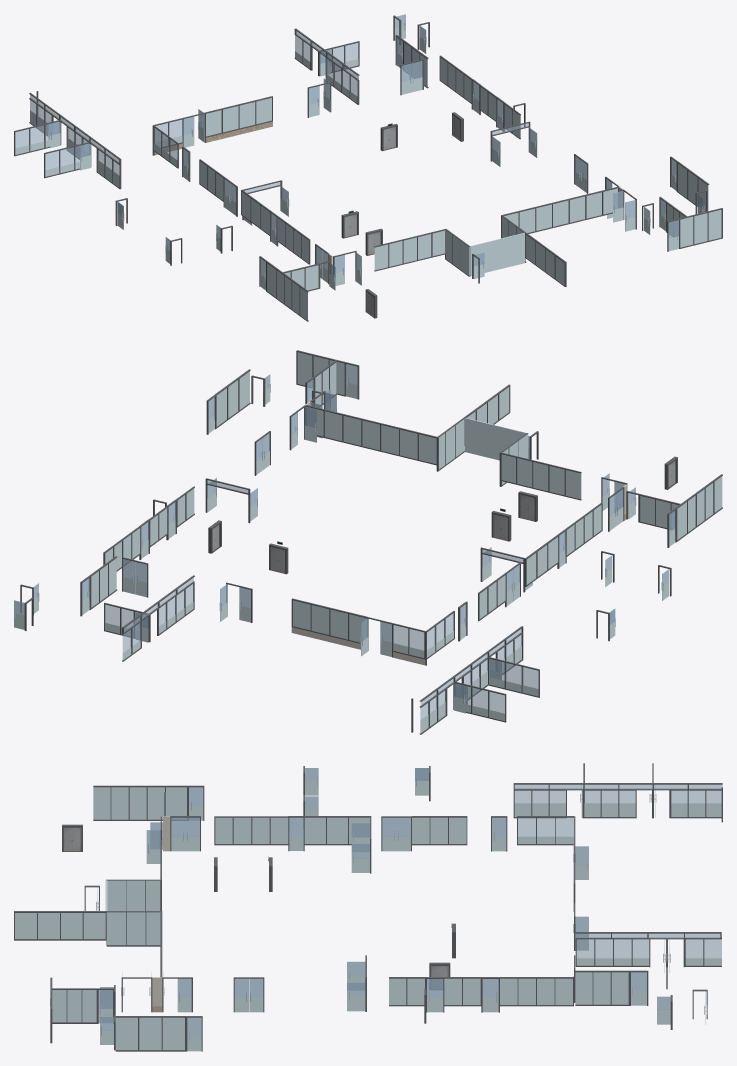
Rendered from glass.glb.
3 views of the same model, one above another, from view 1: azimuth 30°, elevation 25°; view 2: azimuth 150°, elevation 25°; view 3: azimuth 270°, elevation 25° (orthographic). The views are drawn at different scales.
Parts seen in each view (by area): view 1: 立方体.252, 立方体.136, 立方体.107, 立方体.143, 平面.001, 立方体.146, 立方体.153, 立方体.226, 立方体.137; view 2: 立方体.252, 立方体.143, 立方体.136, 平面, 立方体.146, 立方体.153, 立方体.103, 立方体.137; view 3: 平面, 平面.001, 立方体.104, 立方体.227, 立方体.194, 立方体.137, 立方体.136, 立方体.113, 立方体.111, 立方体.112, 立方体.244, 立方体.246 (+63 smaller).
Boxes of the visible parts, x1,y1,x2,y2 form: 立方体.252: (470,233,524,276); 立方体.136: (490,121,537,166); 立方体.107: (613,189,636,231); 立方体.143: (400,59,423,95); 平面.001: (446,230,469,275); 立方体.146: (307,78,331,117); 立方体.153: (182,109,205,147); 立方体.226: (333,251,361,285); 立方体.137: (242,180,288,225); 立方体.252: (465,418,526,460); 立方体.143: (122,557,148,597); 立方体.136: (205,477,257,523); 平面: (439,419,464,469); 立方体.146: (220,582,252,622); 立方体.153: (361,617,393,657); 立方体.103: (289,405,316,450); 立方体.137: (480,547,532,592); 平面: (106,912,160,944); 平面.001: (105,880,160,910); 立方体.104: (233,977,264,1012); 立方体.227: (170,816,200,851); 立方体.194: (381,816,411,851); 立方体.137: (351,817,371,873); 立方体.136: (347,955,366,1011); 立方体.113: (115,1016,139,1051); 立方体.111: (162,1016,186,1051); 立方体.112: (139,1016,162,1051); 立方体.244: (166,785,187,820); 立方体.246: (83,911,106,940).
Bounding box in the file's own units: 16.06 × 1.01 × 18.52.
8 materials, 5 textured.
